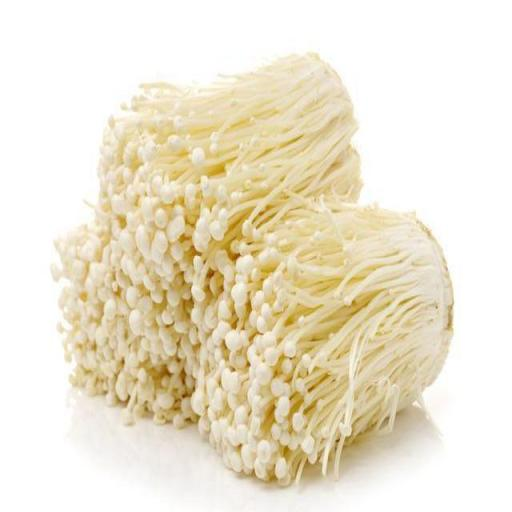Enoki Mushroom: (50, 54, 455, 484)
